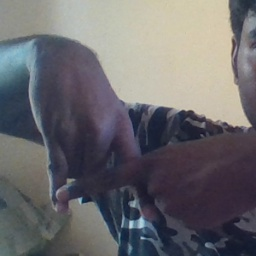H: (40, 128, 173, 230)
